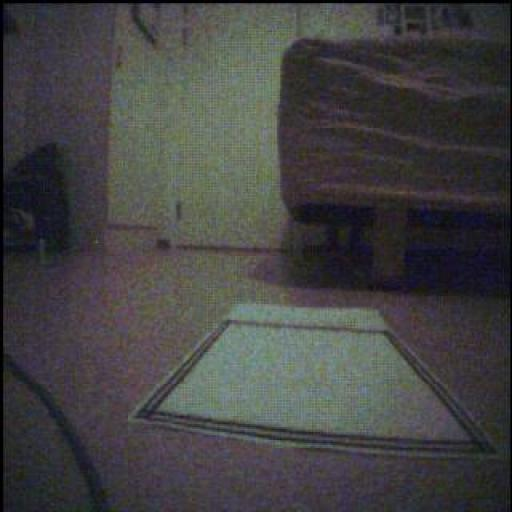pad: (131, 305, 496, 459)
